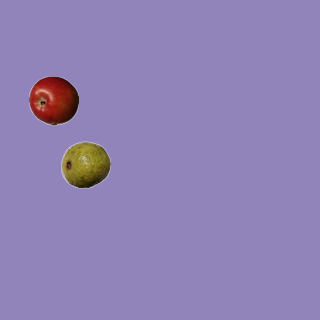Apple Braeburn: (28, 75, 78, 125)
Guava: (60, 139, 110, 189)
